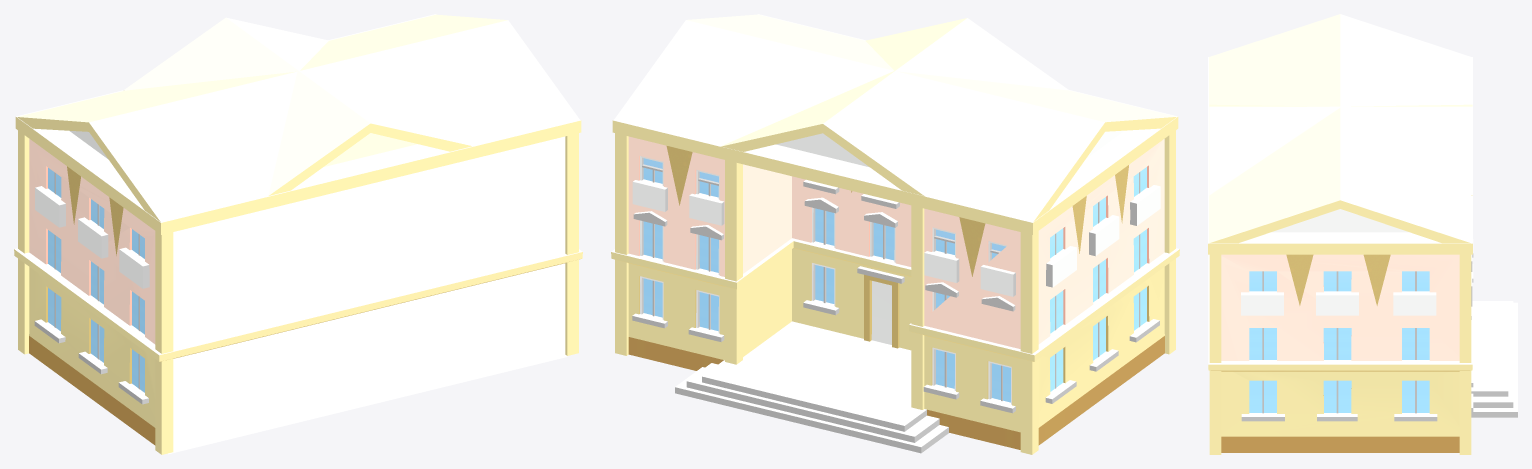
Rendered from art.005.glb.
The picture shows the model from 3 angles, left to right: view 1: azimuth 30°, elevation 25°; view 2: azimuth 150°, elevation 25°; view 3: azimuth 270°, elevation 25°; orthographic projection. The views are drawn at different scales.
Visible parts, largest first — view 1: art.005(Clone); view 2: art.005(Clone); view 3: art.005(Clone).
Boxes of the visible parts, x1=… form: art.005(Clone): x1=14, y1=14, x2=582, y2=454; art.005(Clone): x1=611, y1=14, x2=1179, y2=454; art.005(Clone): x1=1208, y1=14, x2=1517, y2=454.
Bounding box in the file's own units: 15.29 × 9.78 × 10.63.
Materials: 1 (1 with a texture image).
